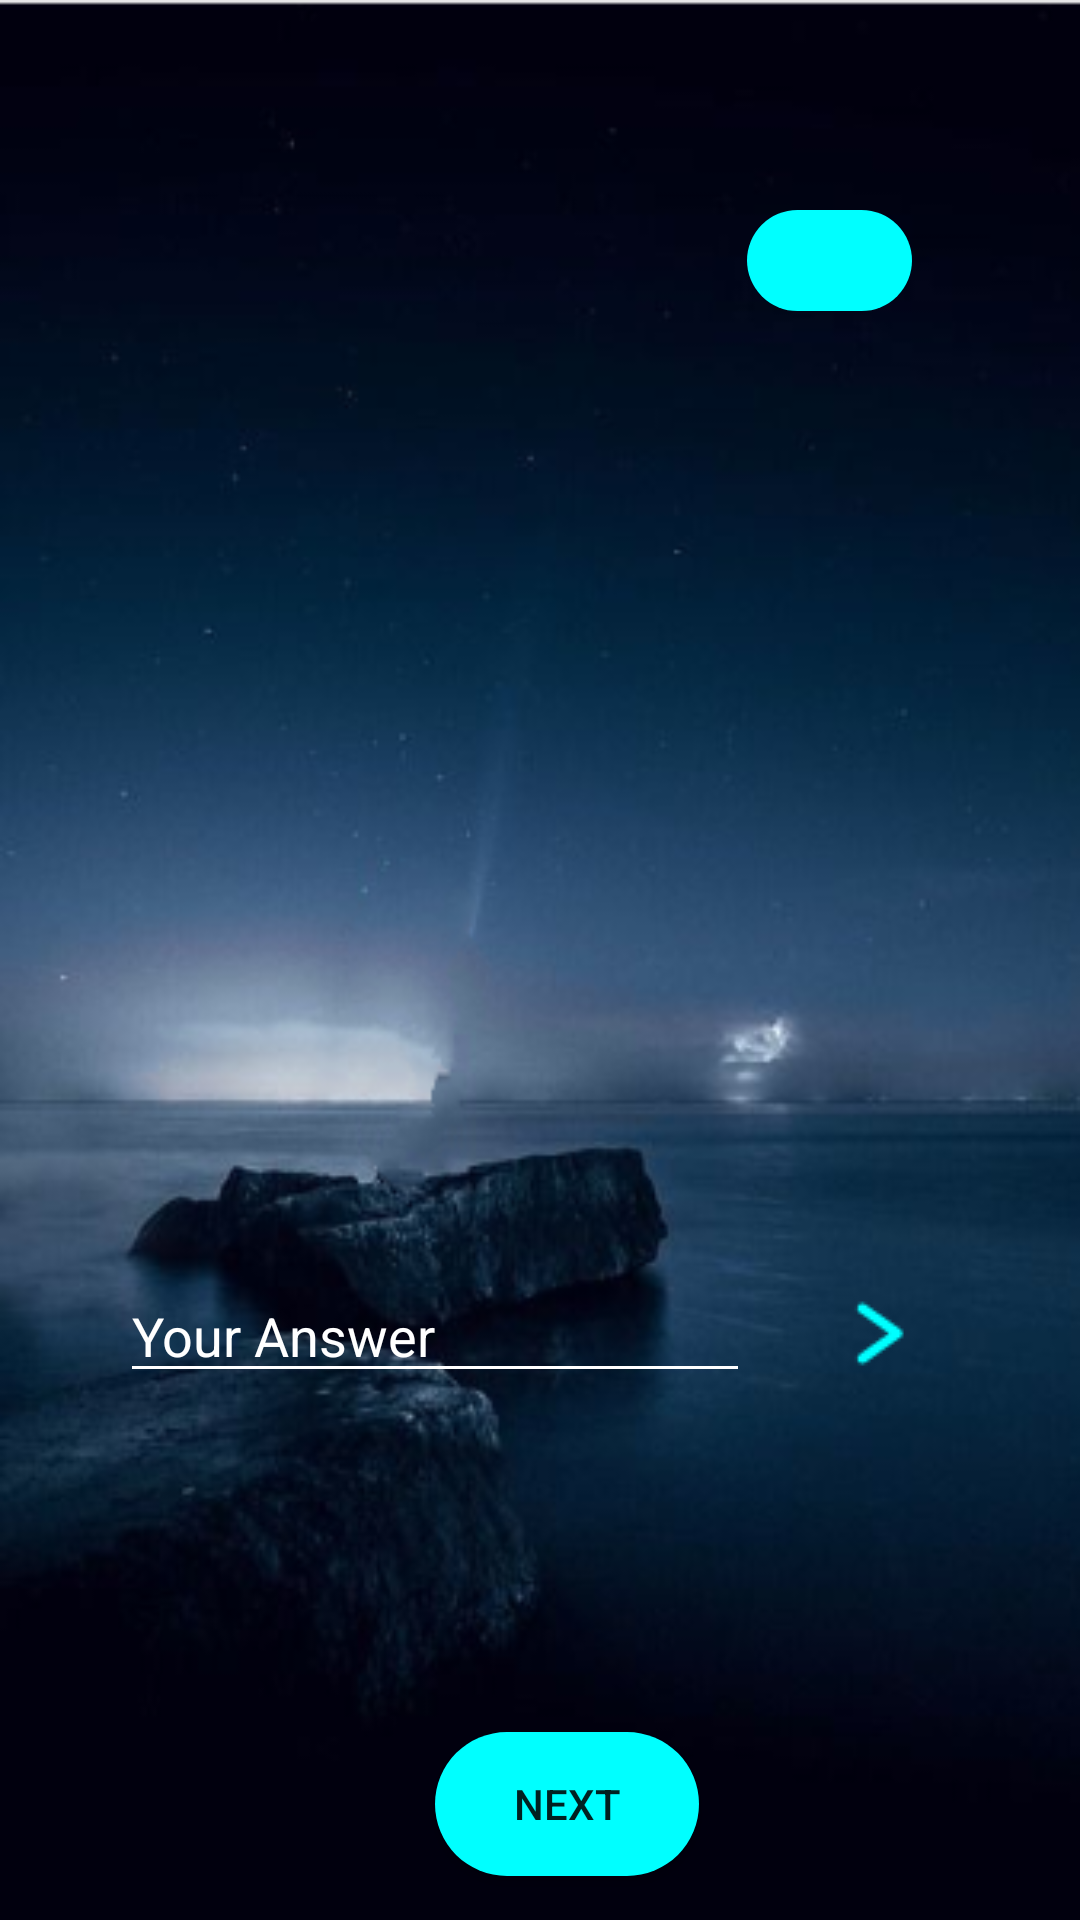

Named icons in this screenshot (1080*1920) and their centers, point (x, y):
redirect: point (880, 1333)
